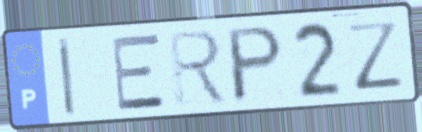2: (290, 19, 345, 101)
E: (108, 31, 169, 114)
I: (54, 34, 78, 120)
P: (226, 23, 287, 107)
R: (165, 27, 232, 107)
Z: (344, 18, 406, 93)
